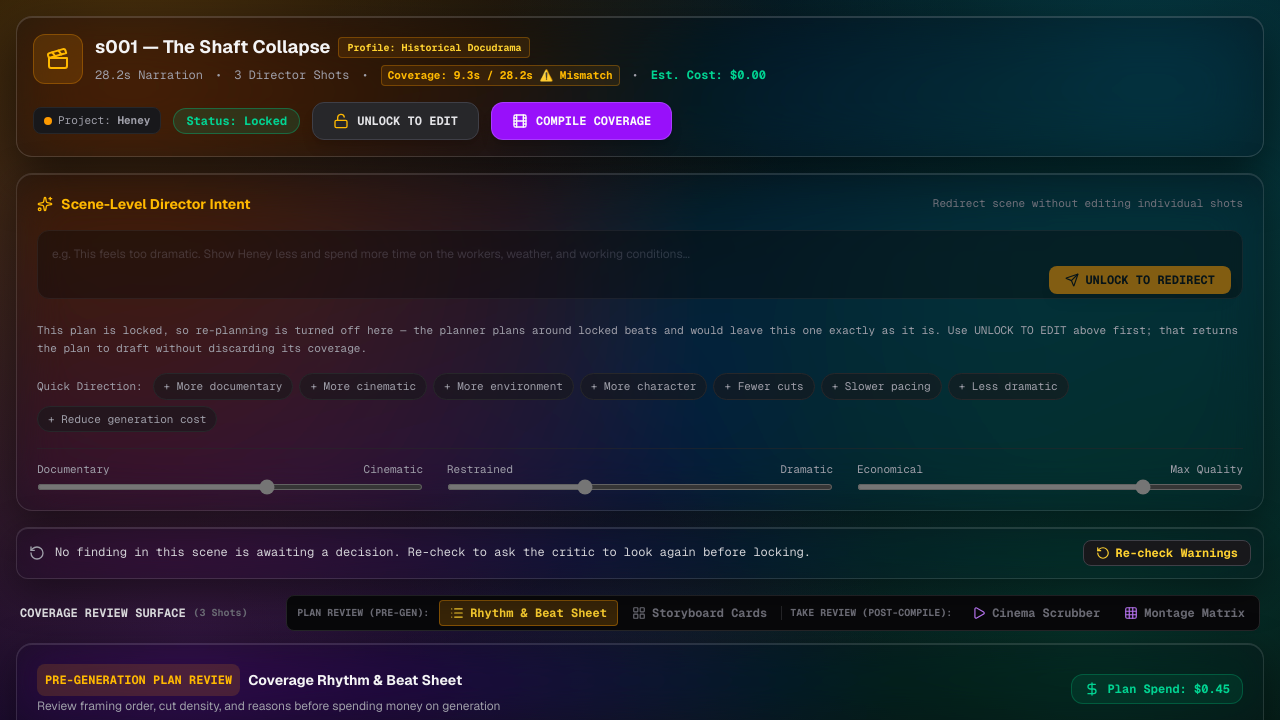
Test case: the montage matrix shows this film, not the fixture › a scene that genuinely costs nothing is quoted as nothing
The image size is (1280, 720).
Click the button "Montage Matrix".
click(1185, 613)  # box [1114,601,1255,625]
(page scrolled)
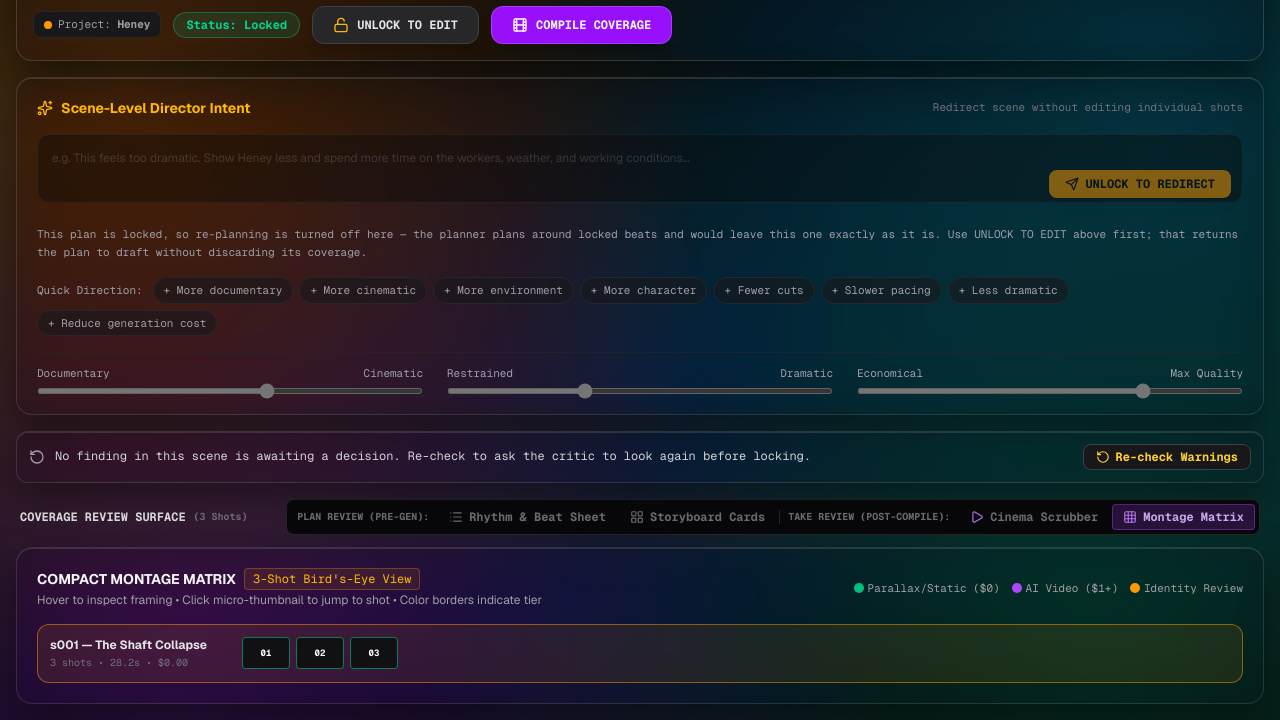
Result: the element with test id "montage-matrix" shows "$0.00" at [16,547,1264,704]
